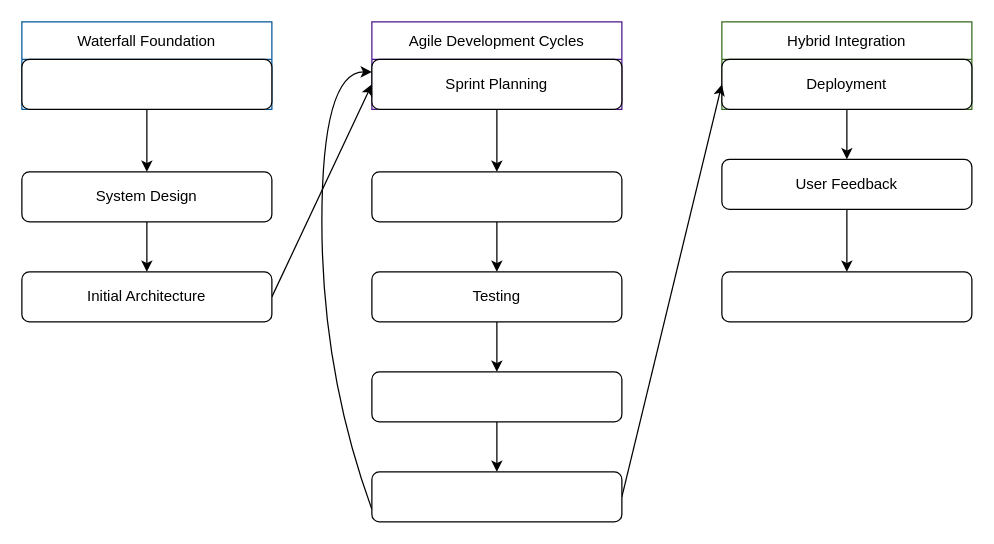
This 994x544 diagram has some shape labels left out. The shapes that lost their labels are listed below. From the top down, each one's centre as x and y in pixels, then its label:
At pixel 146 83: "Requirements Gathering".
At pixel 496 196: "Development Sprint".
At pixel 846 296: "Maintenance & Updates".
At pixel 496 396: "Review & Feedback".
At pixel 496 496: "Sprint Release".
